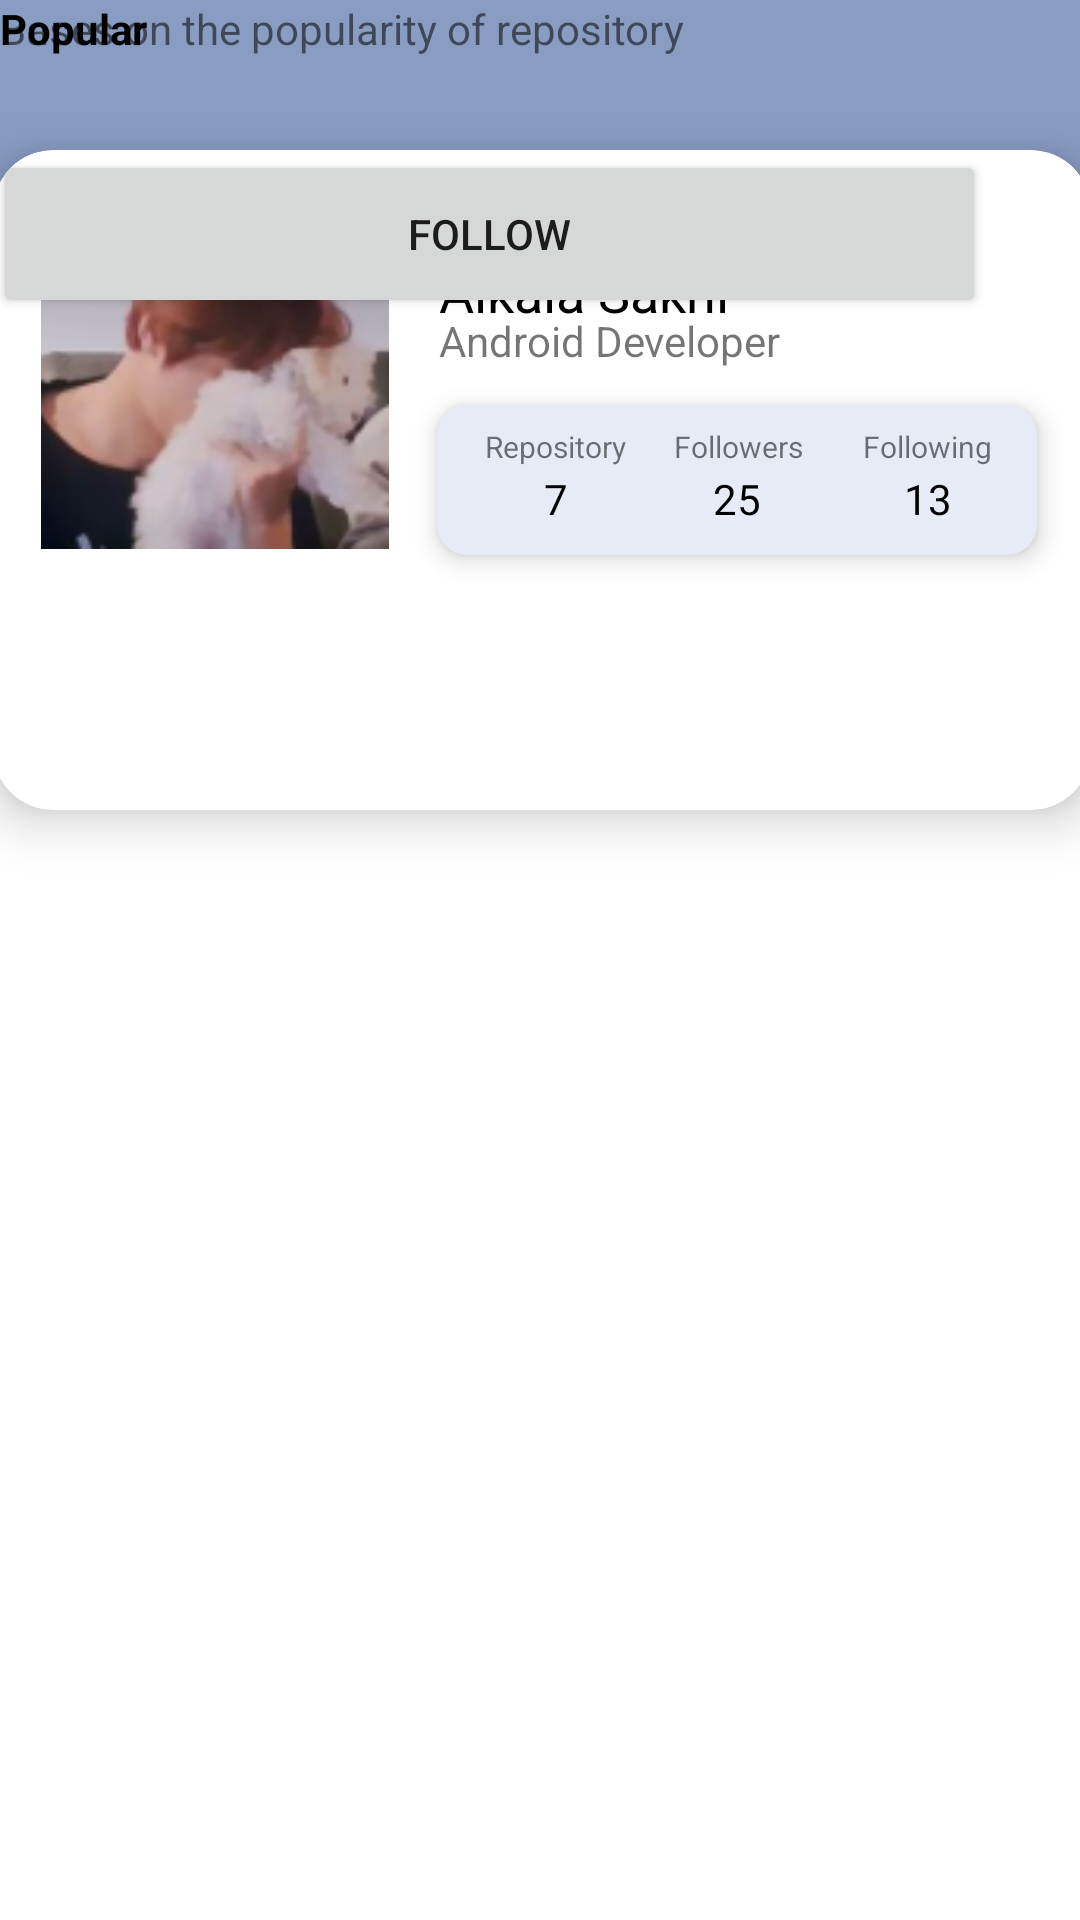

Icons on this 1080×1920 Android screen, each with its box as {"x1": x1, "y1": y1, "x2": x2, "y2": y2}:
ava: {"x1": 41, "y1": 198, "x2": 389, "y2": 549}
